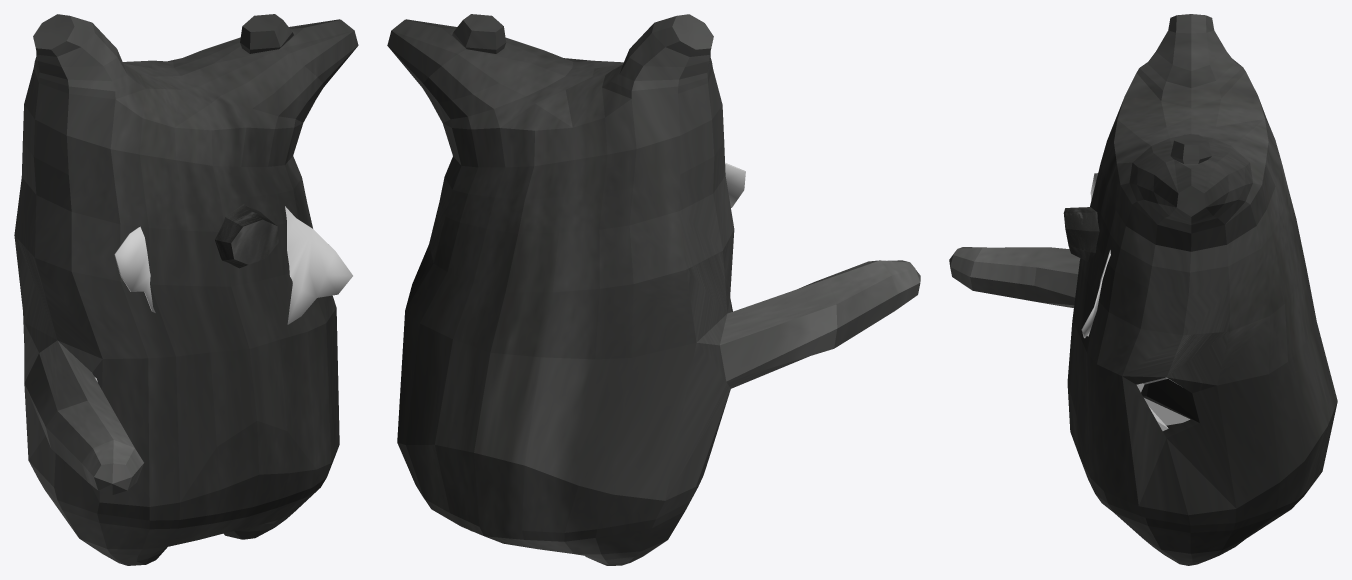
Rendered from frame_0006.obj.
The picture shows the model from 3 angles, left to right: view 1: azimuth 30°, elevation 25°; view 2: azimuth 150°, elevation 25°; view 3: azimuth 270°, elevation 25°; orthographic projection. The views are drawn at different scales.
Parts seen in each view (by area): view 1: korok, leaf, nose; view 2: korok; view 3: korok, nose, leaf.
Part boxes in pixels (x1,y1,x2,y2): korok: (14,14,358,565); leaf: (114,206,352,324); nose: (215,204,278,268); korok: (387,14,920,565); korok: (949,14,1337,565); nose: (1063,207,1099,262); leaf: (1081,173,1110,338).
Size of the model in its own units: 1.67 by 2.27 by 1.68.
